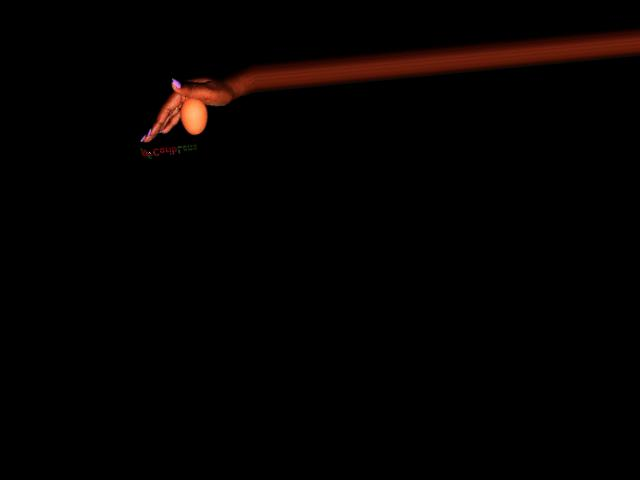egg: (178, 97, 210, 136)
